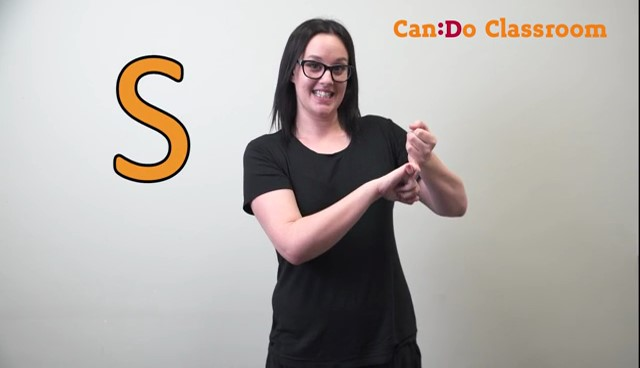S: (374, 115, 458, 215)
